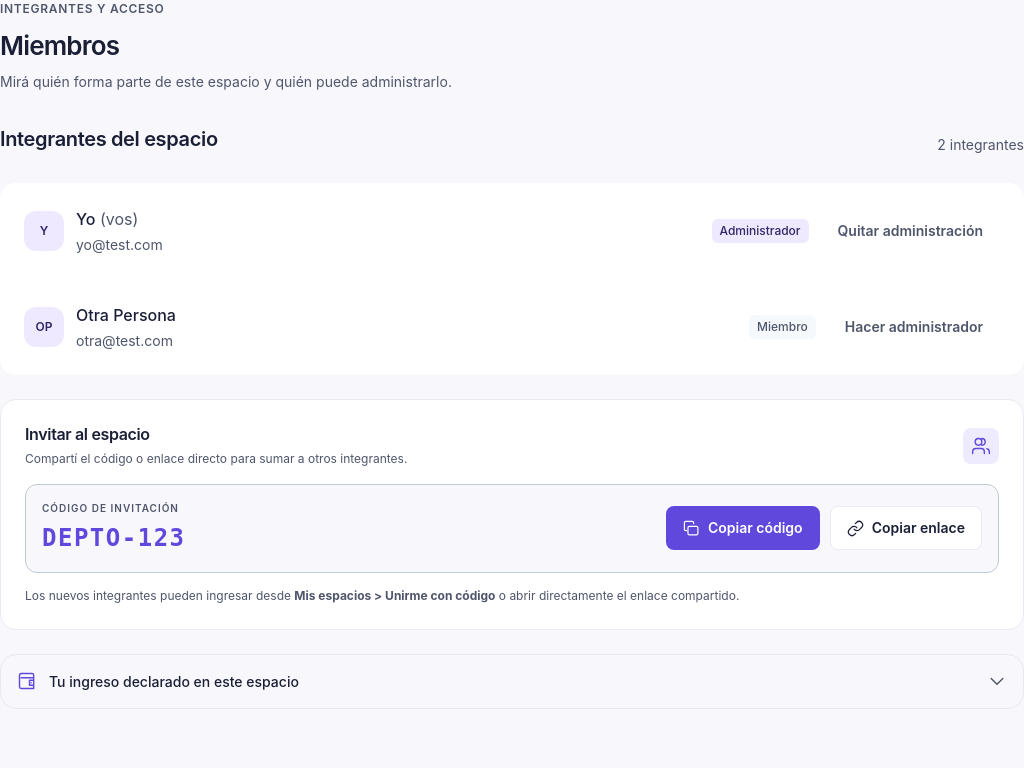
Scenario: MembersPage › advierte cuando el propio administrador es el único y está a punto de dejar el rol
Step 1. Click the button with aria-label "quitar administración a yo" → (910, 231), box [820, 209, 1000, 253]
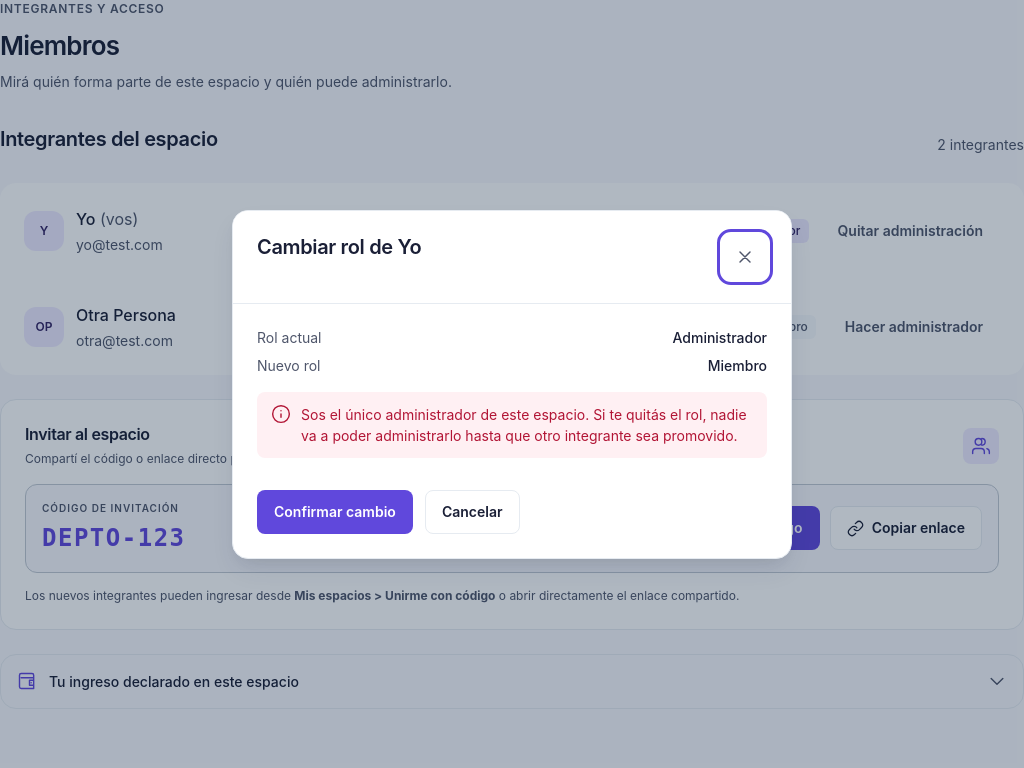
Expected: the text "único administrador" is shown, [301, 406, 747, 444]
